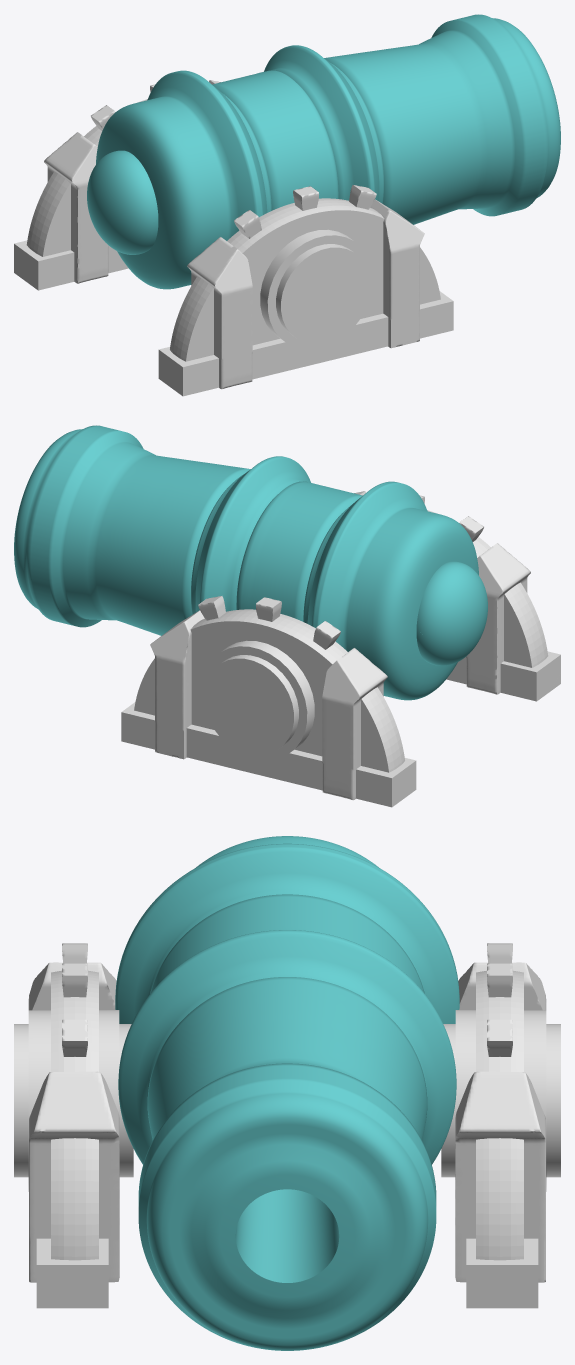
Rendered from Full Cannon color 1.fbx.
The picture shows the model from 3 angles, top to bottom: view 1: azimuth 30°, elevation 25°; view 2: azimuth 150°, elevation 25°; view 3: azimuth 270°, elevation 25°; orthographic projection. The views are drawn at different scales.
Visible parts, largest first — view 1: Group1106, Group20293, Group59721, Group26760, Group14031, Group47634, Group26530, Group16884, Group52558, Group49670; view 2: Group1106, Group16884, Group47634, Group65329, Group52558, Group59721, Group65141, Group20293, Group14031, Group33974, Group61065; view 3: Group1106, Group59721, Group47634, Group20293, Group16884, Group14031, Group52558, Group26530, Group65141, Group65329, Group26760, Group49670 (+2 smaller).
Part boxes in pixels (x1,y1,x2,y2): Group1106: (87, 14, 560, 289); Group20293: (170, 198, 440, 361); Group59721: (187, 199, 424, 389); Group26760: (276, 244, 369, 343); Group14031: (158, 291, 453, 396); Group47634: (44, 132, 108, 283); Group26530: (260, 229, 373, 348); Group16884: (26, 99, 147, 256); Group52558: (14, 240, 128, 290); Group49670: (234, 185, 376, 238); Group1106: (14, 425, 487, 700); Group16884: (134, 609, 404, 772); Group47634: (150, 610, 387, 800); Group65329: (205, 655, 298, 754); Group52558: (121, 702, 416, 807); Group59721: (466, 543, 530, 694); Group65141: (201, 640, 314, 759); Group20293: (427, 510, 548, 667); Group14031: (446, 651, 560, 701); Group33974: (198, 596, 340, 649); Group61065: (256, 597, 281, 621); Group1106: (115, 836, 459, 1350); Group59721: (28, 962, 119, 1282); Group47634: (455, 962, 546, 1282); Group20293: (51, 970, 98, 1260); Group16884: (476, 970, 523, 1260); Group14031: (36, 1238, 108, 1308); Group52558: (466, 1238, 538, 1308); Group26530: (28, 1010, 119, 1191); Group65141: (455, 1010, 546, 1191); Group65329: (441, 1024, 560, 1177); Group26760: (14, 1024, 133, 1177); Group49670: (62, 943, 87, 1056).
Size of the model in its own units: 378 by 194 by 281.
